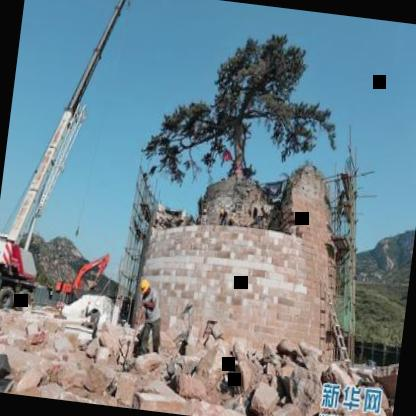helmet: (136, 276, 152, 299)
